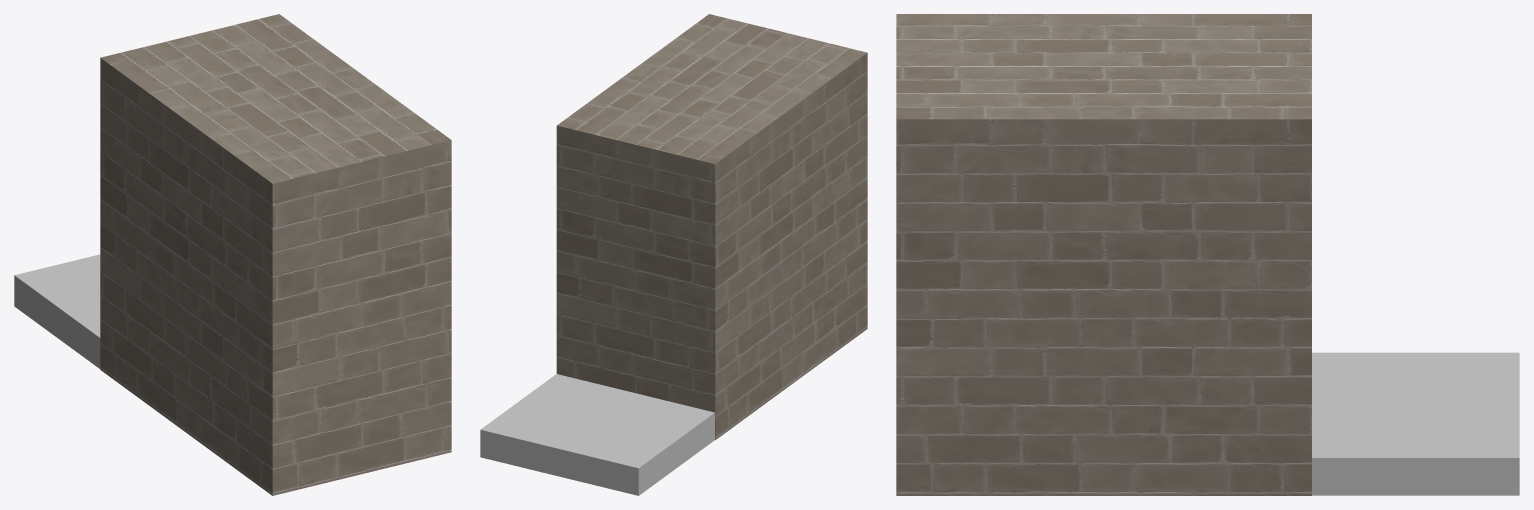
File: Lift.fbx
The picture shows the model from 3 angles, left to right: view 1: azimuth 30°, elevation 25°; view 2: azimuth 150°, elevation 25°; view 3: azimuth 270°, elevation 25°; orthographic projection. The views are drawn at different scales.
Visible parts, largest first — view 1: Cube__1_, Cube; view 2: Cube__1_, Cube; view 3: Cube__1_, Cube.
Part boxes in pixels (left/top/right/bottom): Cube__1_: left=100, top=14, right=451, bottom=495; Cube: left=14, top=254, right=100, bottom=368; Cube__1_: left=556, top=14, right=867, bottom=440; Cube: left=480, top=374, right=714, bottom=495; Cube__1_: left=896, top=14, right=1311, bottom=495; Cube: left=1312, top=352, right=1519, bottom=495.
Bounding box in the file's own units: 601 × 1000 × 1500.
